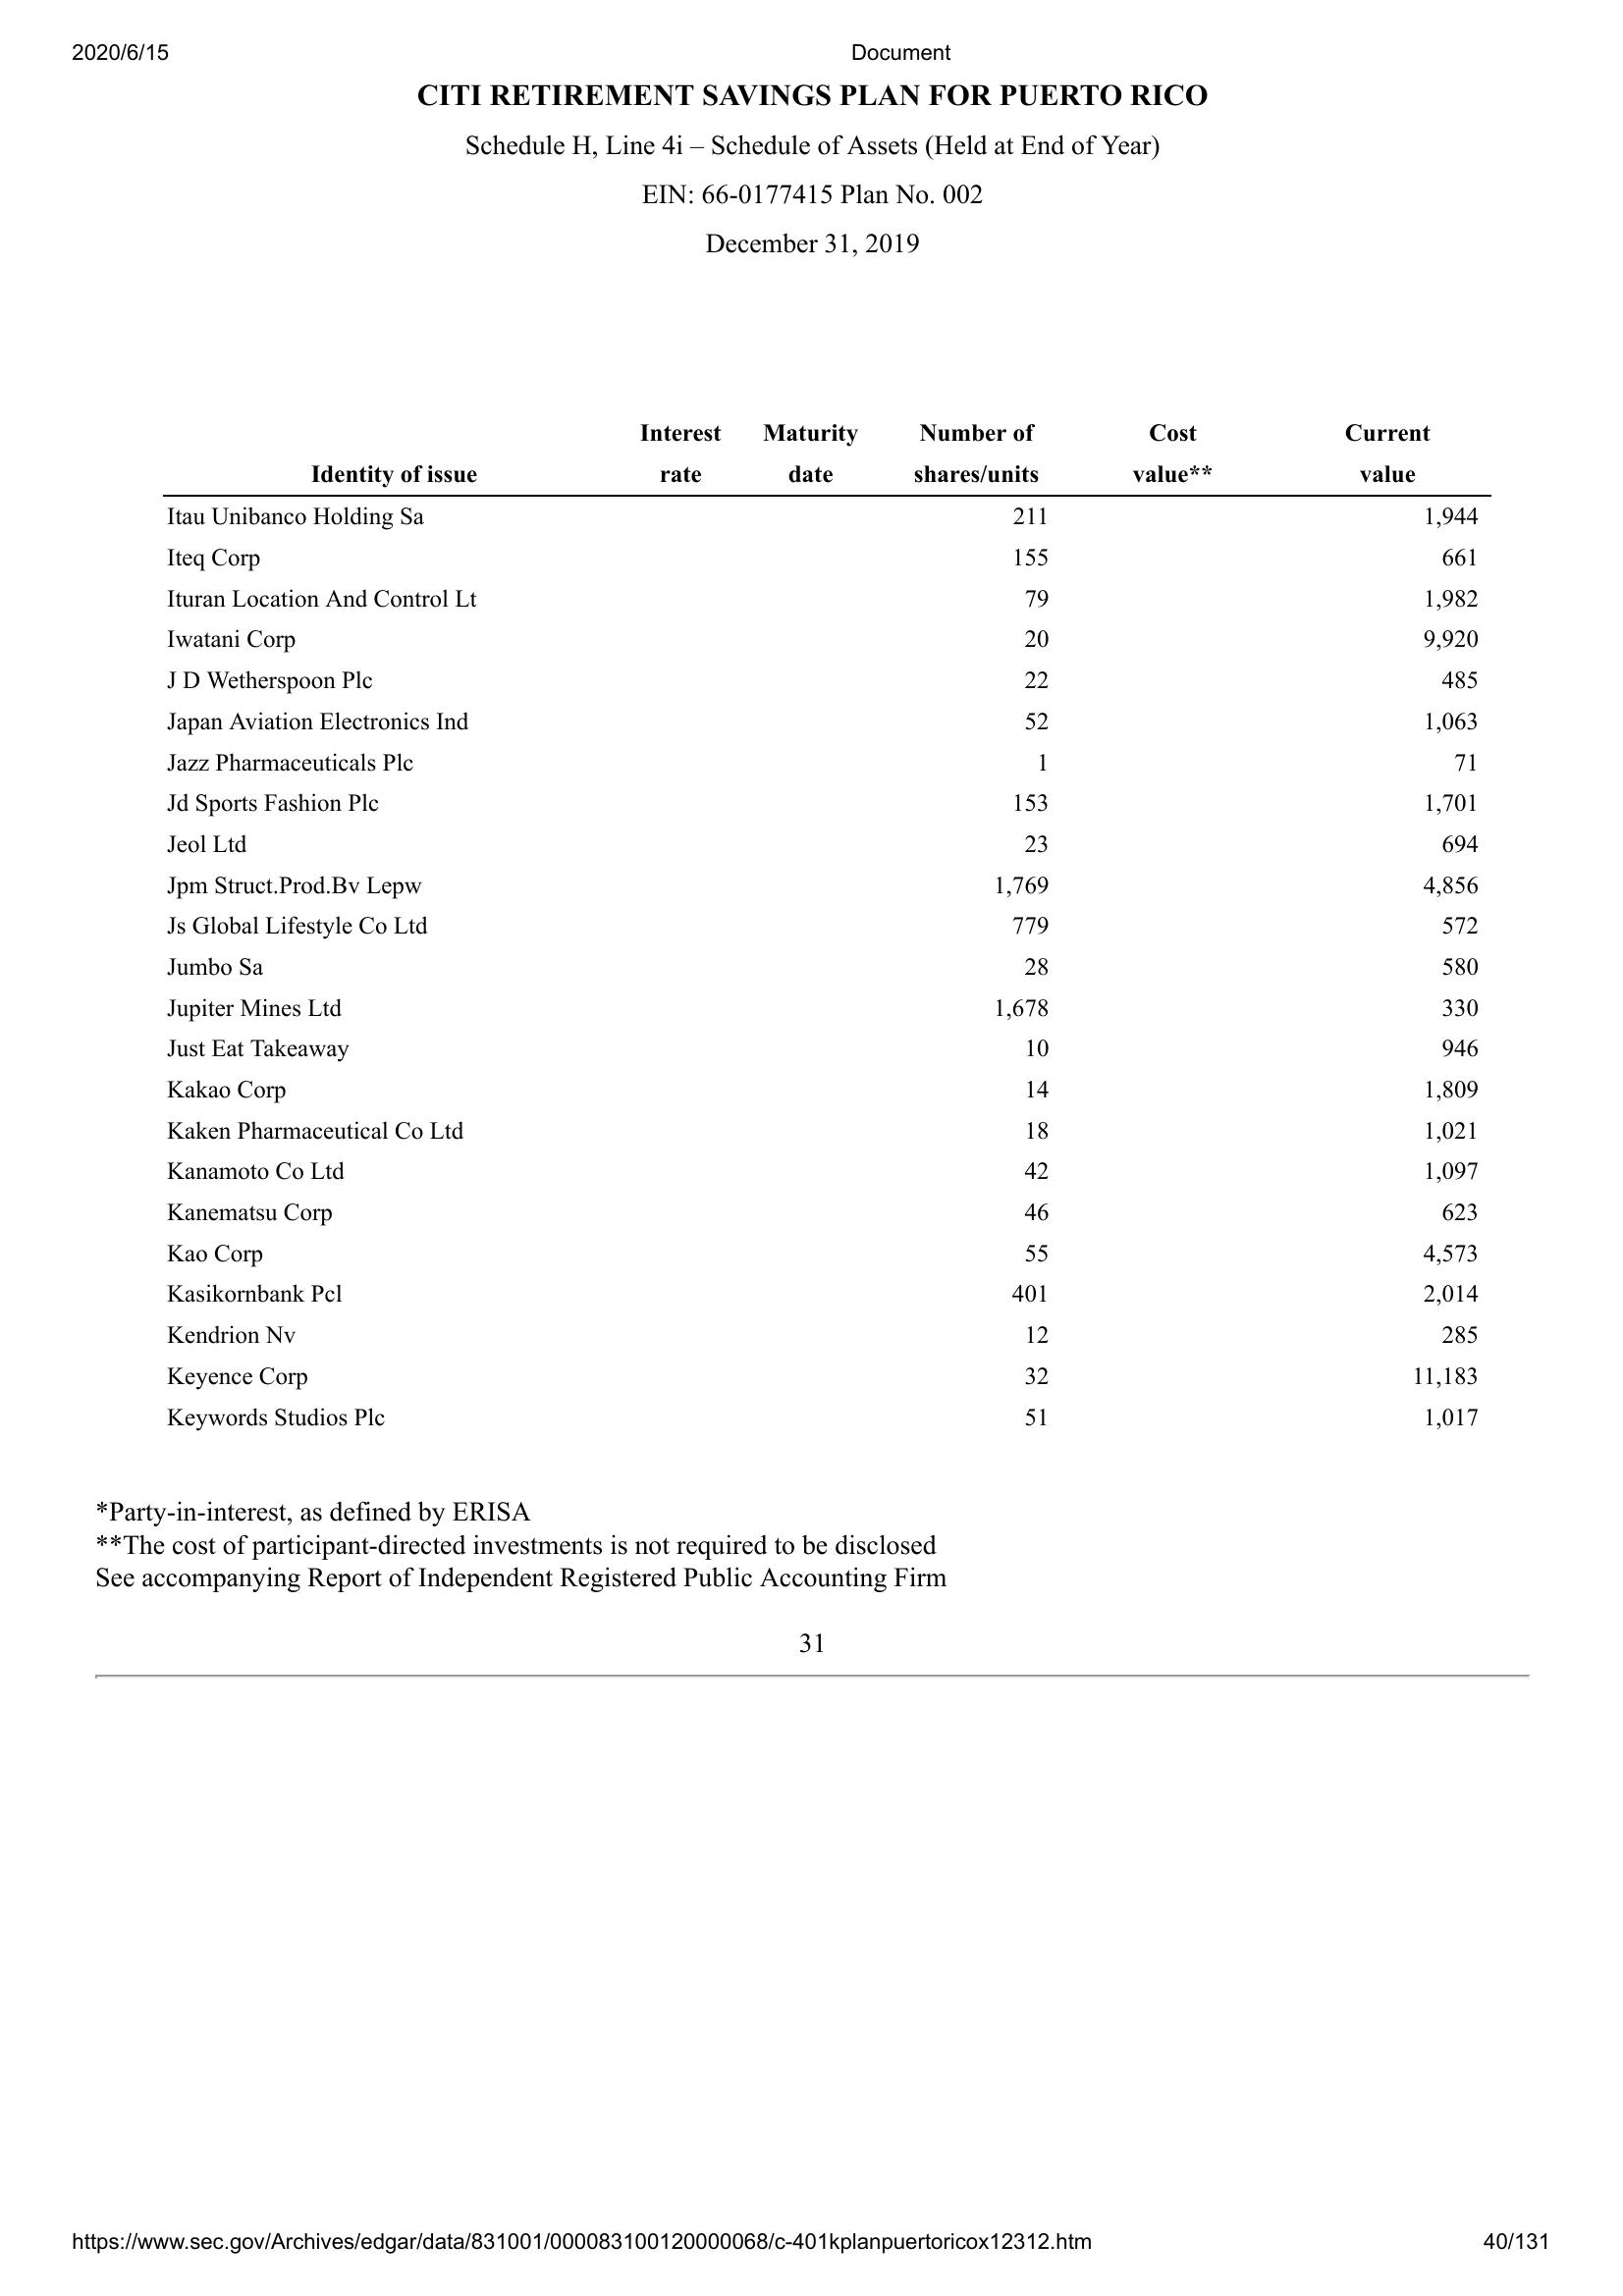table: (158, 416, 1497, 1452)
